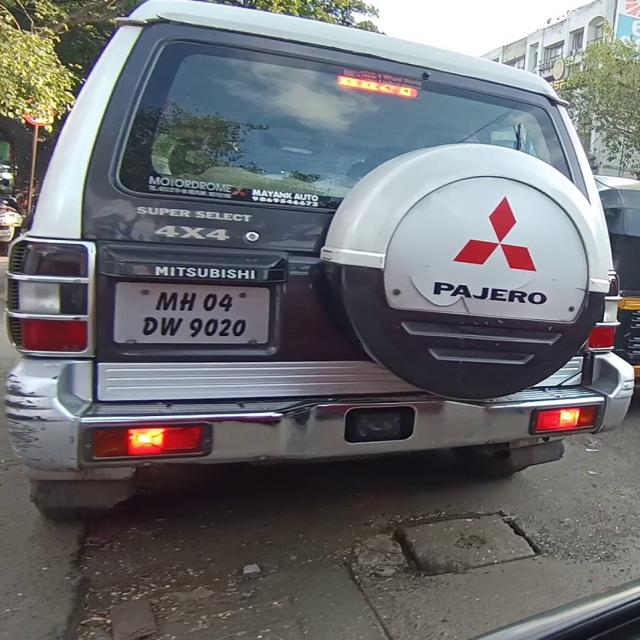Plate: (114, 281, 271, 345)
